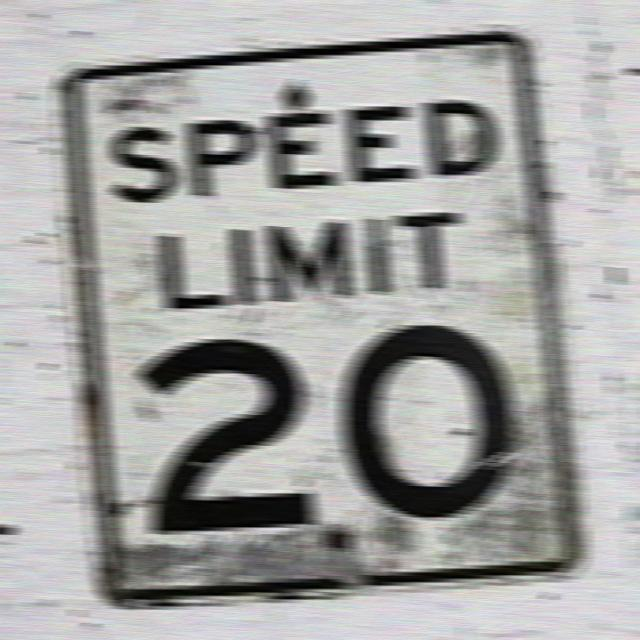speedLimit20: (49, 53, 576, 604)
